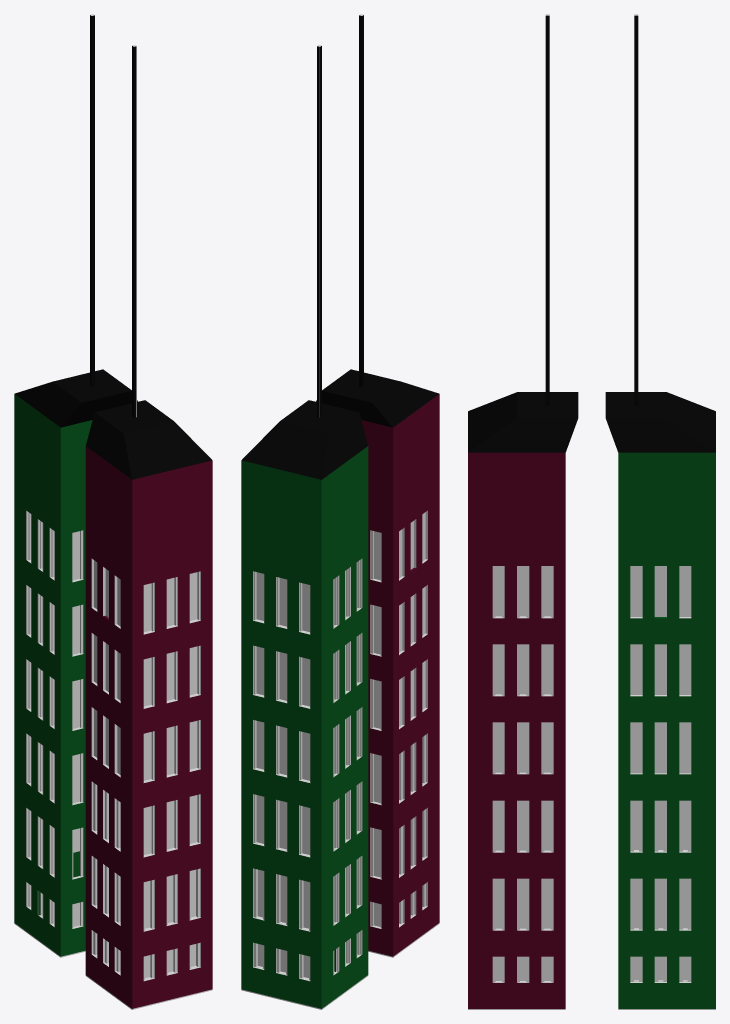
Rendered from tramston_twin_towers.fbx.
The picture shows the model from 3 angles, left to right: view 1: azimuth 30°, elevation 25°; view 2: azimuth 150°, elevation 25°; view 3: azimuth 270°, elevation 25°; orthographic projection. The views are drawn at different scales.
Visible parts, largest first — view 1: tramston_twin_towers; view 2: tramston_twin_towers; view 3: tramston_twin_towers.
Part boxes in pixels (<box>): tramston_twin_towers: <box>14,14,212,1009</box>; tramston_twin_towers: <box>241,14,439,1009</box>; tramston_twin_towers: <box>468,14,715,1009</box>.
Size of the model in its own units: 160 by 1761 by 406.
